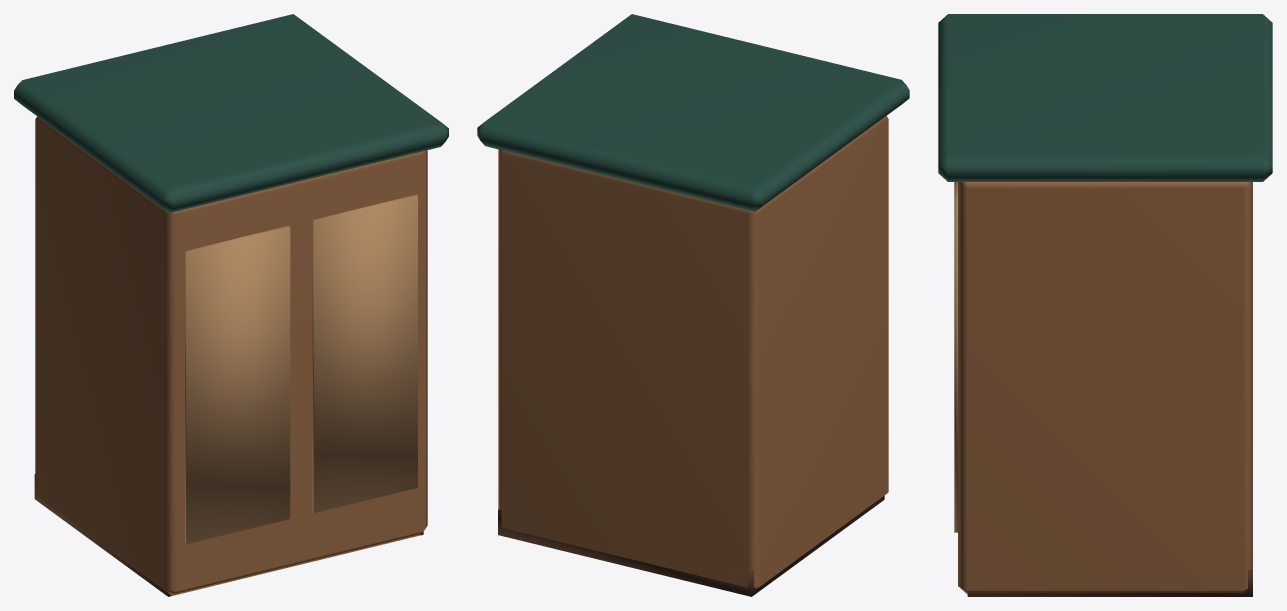
Rendered from counter_end.glb.
3 views of the same model, side by side, from view 1: azimuth 30°, elevation 25°; view 2: azimuth 150°, elevation 25°; view 3: azimuth 270°, elevation 25° (orthographic). The views are drawn at different scales.
Visible parts, largest first — view 1: counter_end; view 2: counter_end; view 3: counter_end.
Part boxes in pixels (x1,y1,x2,y2): counter_end: (14,14,448,596); counter_end: (477,14,909,596); counter_end: (938,14,1272,596).
Size of the model in its own units: 0.72 by 1 by 0.68.
